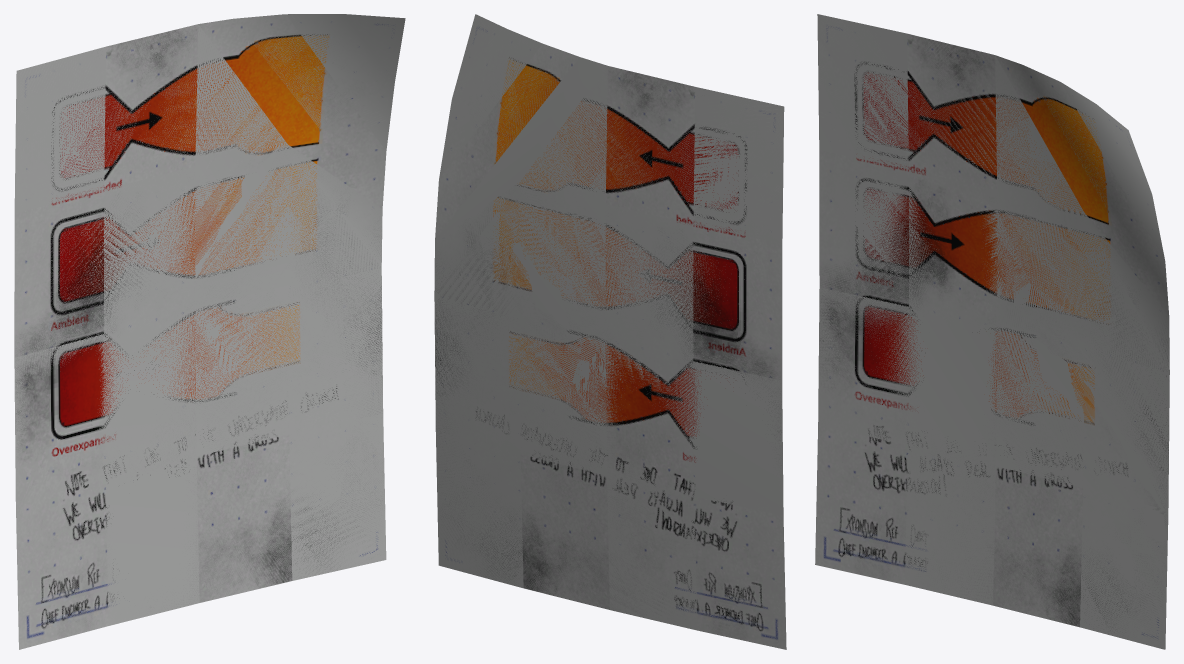
File: rocket_design_02.dae
3 renders of one model, left to right at view 1: azimuth 30°, elevation 25°; view 2: azimuth 150°, elevation 25°; view 3: azimuth 330°, elevation 25°, orthographic. The views are drawn at different scales.
Visible parts, largest first — view 1: 02; view 2: 02; view 3: 02.
Boxes of the visible parts, x1,y1,x2,y2 form: 02: [14, 14, 405, 649]; 02: [434, 14, 786, 649]; 02: [815, 14, 1169, 649].
Size of the model in its own units: 0.9998 by 1.5 by 0.171.
